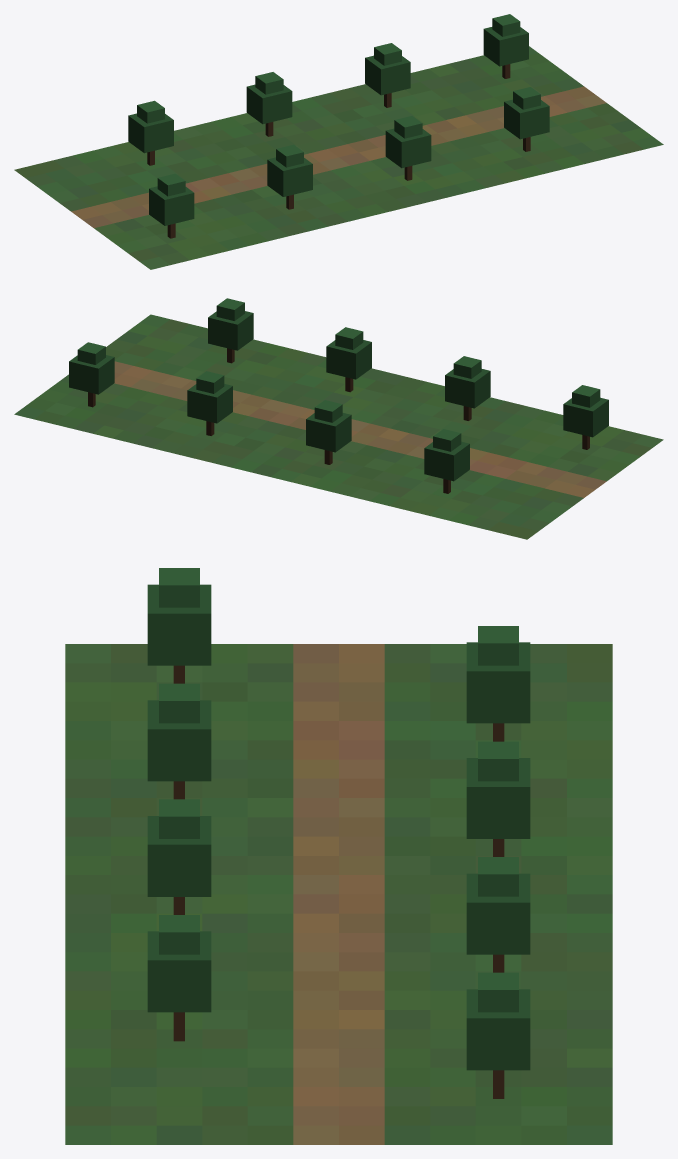
The picture shows the model from 3 angles, top to bottom: view 1: azimuth 30°, elevation 25°; view 2: azimuth 150°, elevation 25°; view 3: azimuth 270°, elevation 25°; orthographic projection. The views are drawn at different scales.
Visible parts, largest first — view 1: scenery; view 2: scenery; view 3: scenery.
Part boxes in pixels (left/top/right/bottom): scenery: left=14, top=14, right=663, bottom=269; scenery: left=14, top=298, right=663, bottom=539; scenery: left=65, top=568, right=612, bottom=1144.
Bounding box in the file's own units: 26 × 2.79 × 12.
